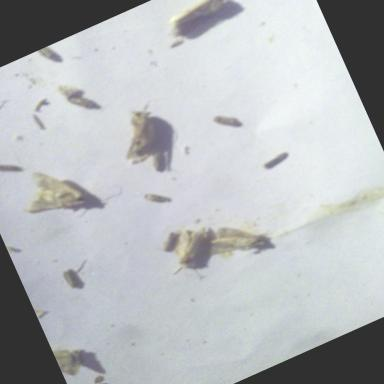abw: (7, 152, 93, 231), (106, 98, 174, 169), (202, 209, 274, 271), (158, 217, 224, 274), (157, 0, 239, 44), (52, 336, 96, 384)
